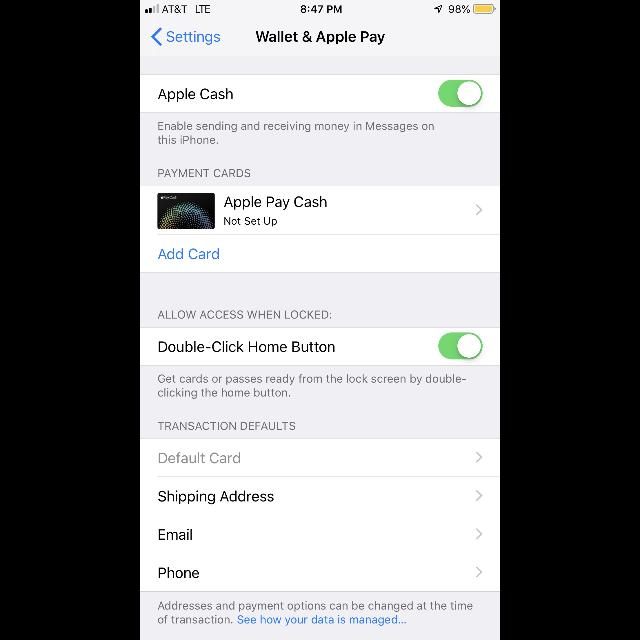icon: (152, 28, 162, 46), (476, 204, 482, 216), (476, 528, 482, 540), (476, 566, 482, 578), (476, 491, 482, 502), (476, 452, 482, 462)
image: (158, 193, 215, 229)
switch: (439, 332, 483, 360), (438, 80, 482, 106)
text: (158, 600, 472, 626), (158, 374, 466, 400), (158, 122, 434, 144), (256, 31, 384, 45), (159, 342, 335, 352), (158, 490, 274, 504), (225, 196, 328, 210), (158, 311, 332, 319), (158, 422, 296, 430), (158, 88, 234, 102), (159, 452, 241, 463), (158, 248, 220, 260), (167, 31, 220, 45), (158, 169, 250, 177), (225, 217, 277, 227), (159, 568, 199, 578), (160, 528, 192, 540)
uppertaskbar: (140, 0, 500, 14)
